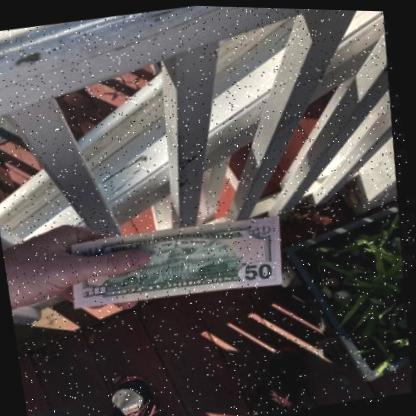fifty-back: (75, 215, 287, 309)
